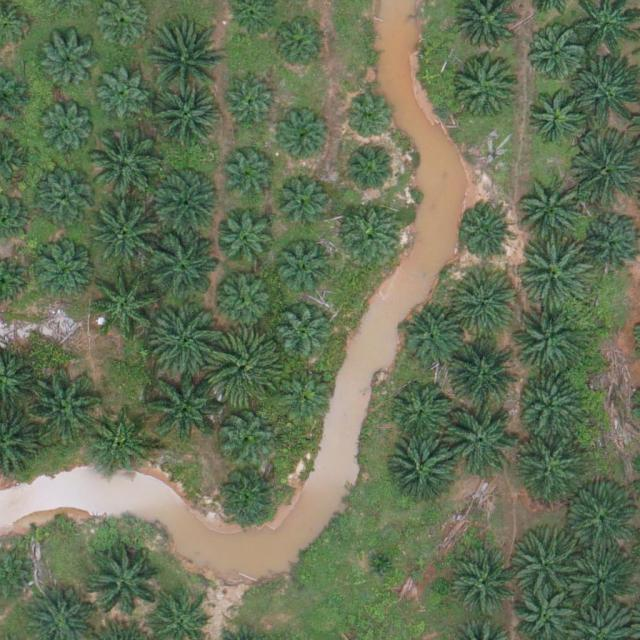Healthy: (449, 269, 520, 340), (147, 167, 218, 238), (519, 368, 589, 439), (514, 432, 584, 503), (444, 405, 514, 476), (386, 438, 457, 508), (147, 371, 217, 442), (29, 371, 99, 442), (520, 169, 590, 240), (522, 240, 592, 311), (513, 309, 583, 380), (449, 336, 519, 407), (209, 332, 280, 402), (152, 27, 222, 98), (151, 85, 221, 156), (154, 308, 224, 379), (92, 269, 162, 340), (92, 201, 162, 272), (90, 131, 160, 202), (569, 490, 639, 560), (514, 525, 584, 595), (90, 544, 160, 614), (150, 228, 220, 298), (390, 382, 453, 445), (272, 240, 335, 303), (32, 239, 95, 302), (402, 307, 465, 370), (571, 550, 633, 613), (453, 555, 515, 618), (89, 417, 152, 479), (524, 24, 586, 87), (526, 84, 588, 147), (457, 56, 519, 119), (340, 202, 402, 265), (33, 173, 95, 236), (216, 466, 278, 528), (216, 269, 278, 331), (219, 209, 281, 271), (219, 408, 274, 463), (457, 203, 512, 258), (271, 17, 326, 72), (277, 113, 332, 168), (344, 141, 399, 196), (279, 368, 334, 423), (223, 148, 278, 203), (41, 39, 96, 94), (41, 103, 96, 158), (222, 77, 276, 132), (278, 310, 332, 365), (275, 172, 329, 227), (96, 68, 150, 123)
Small: (346, 95, 393, 143), (365, 547, 396, 579)
